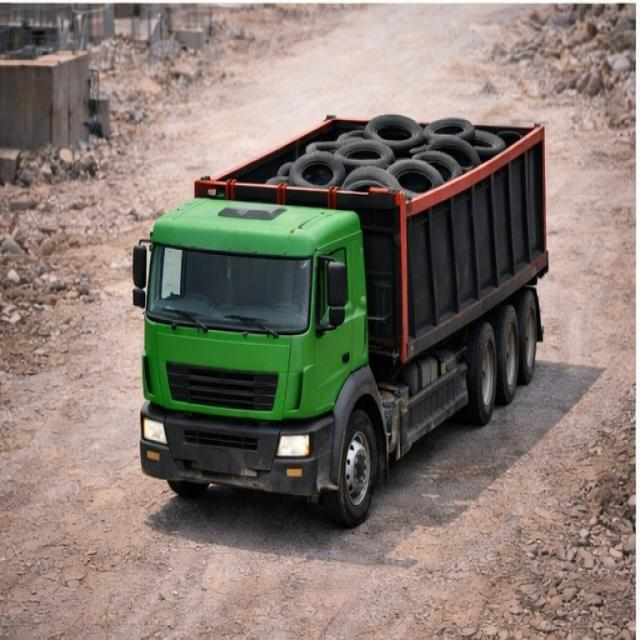trailer: (189, 112, 553, 200)
truck: (126, 106, 562, 510)
